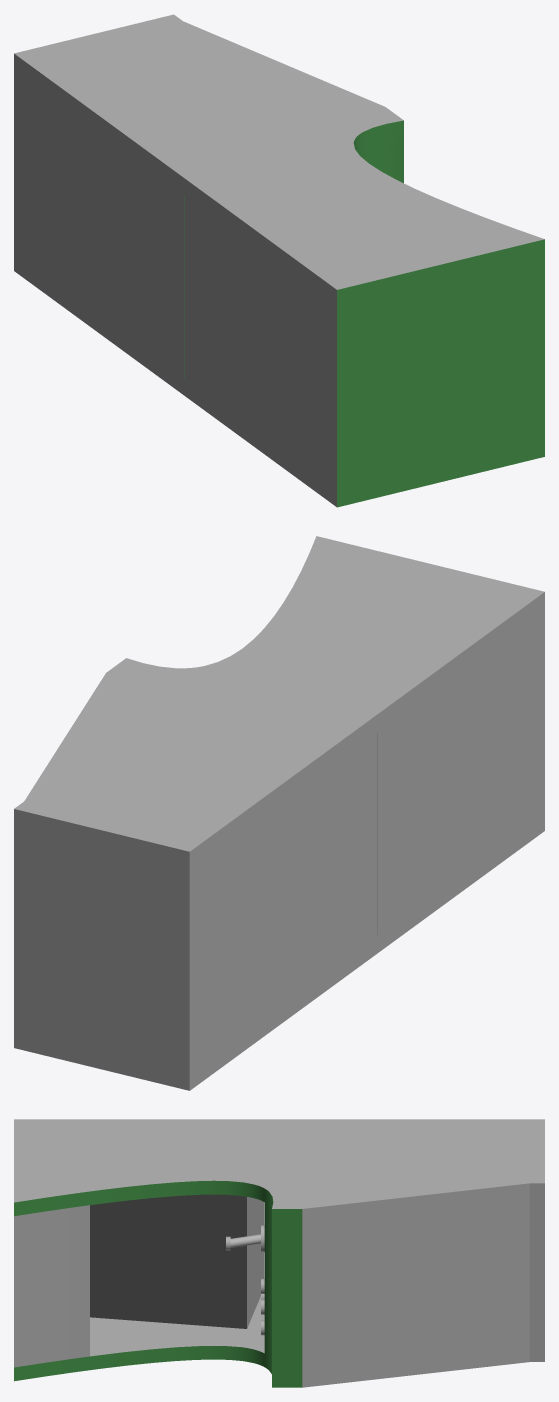
The model's file is GameMachineGreen.fbx.
3 renders of one model, top to bottom at view 1: azimuth 30°, elevation 25°; view 2: azimuth 150°, elevation 25°; view 3: azimuth 270°, elevation 25°, orthographic. The views are drawn at different scales.
Visible parts, largest first — view 1: Body1; view 2: Body1; view 3: Body1.
Boxes of the visible parts, x1,y1,x2,y2 form: Body1: [14, 14, 544, 507]; Body1: [14, 536, 544, 1090]; Body1: [14, 1119, 544, 1387].
Bounding box in the file's own units: 2.8 × 2.6 × 7.
